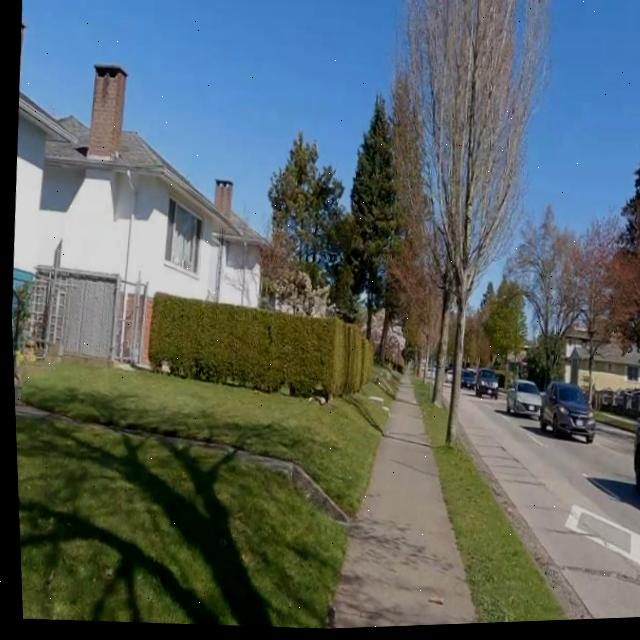Automobile: (505, 383, 591, 446), (457, 373, 493, 400), (629, 414, 640, 497), (443, 376, 448, 386)
Obstacle: (146, 296, 373, 402), (427, 197, 480, 444)
Road: (456, 392, 640, 623), (439, 386, 447, 409)
Sidewalk: (321, 379, 472, 631)
